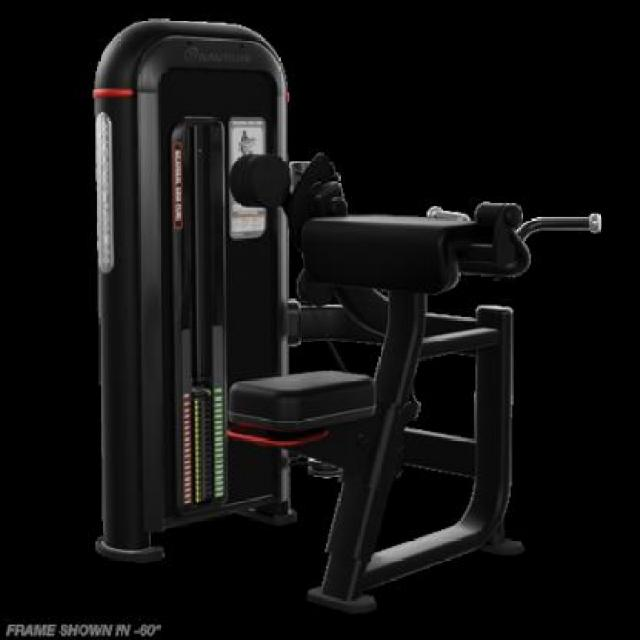arm curl machine: (95, 20, 600, 614)
